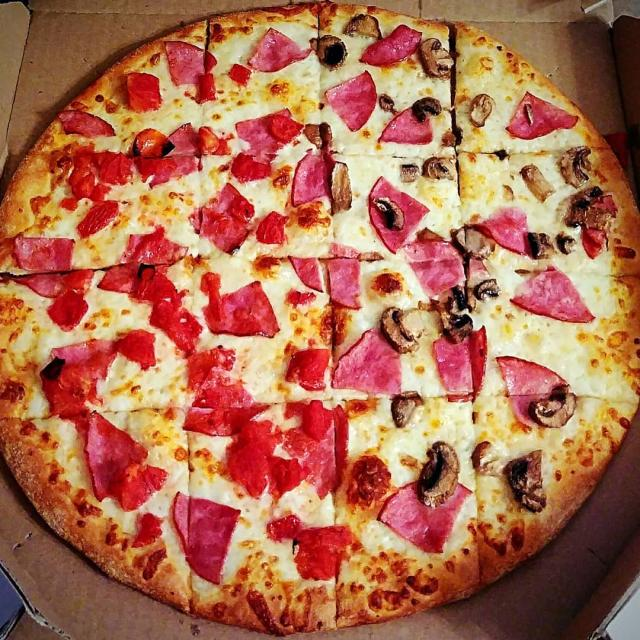mushrooms: (414, 441, 460, 506), (504, 450, 551, 512), (532, 382, 580, 432), (382, 306, 420, 356), (562, 186, 603, 228), (558, 145, 596, 187), (421, 38, 458, 81), (519, 163, 557, 204), (328, 161, 357, 211), (454, 226, 493, 262), (438, 312, 479, 346), (315, 33, 349, 71), (391, 393, 423, 428), (376, 200, 408, 229), (347, 14, 382, 40), (526, 229, 555, 260), (411, 96, 442, 123), (426, 156, 454, 184), (472, 94, 495, 128), (474, 281, 505, 301), (554, 230, 578, 255), (444, 284, 466, 310), (379, 91, 397, 111), (402, 164, 417, 184)
pizza: (0, 1, 640, 635)
